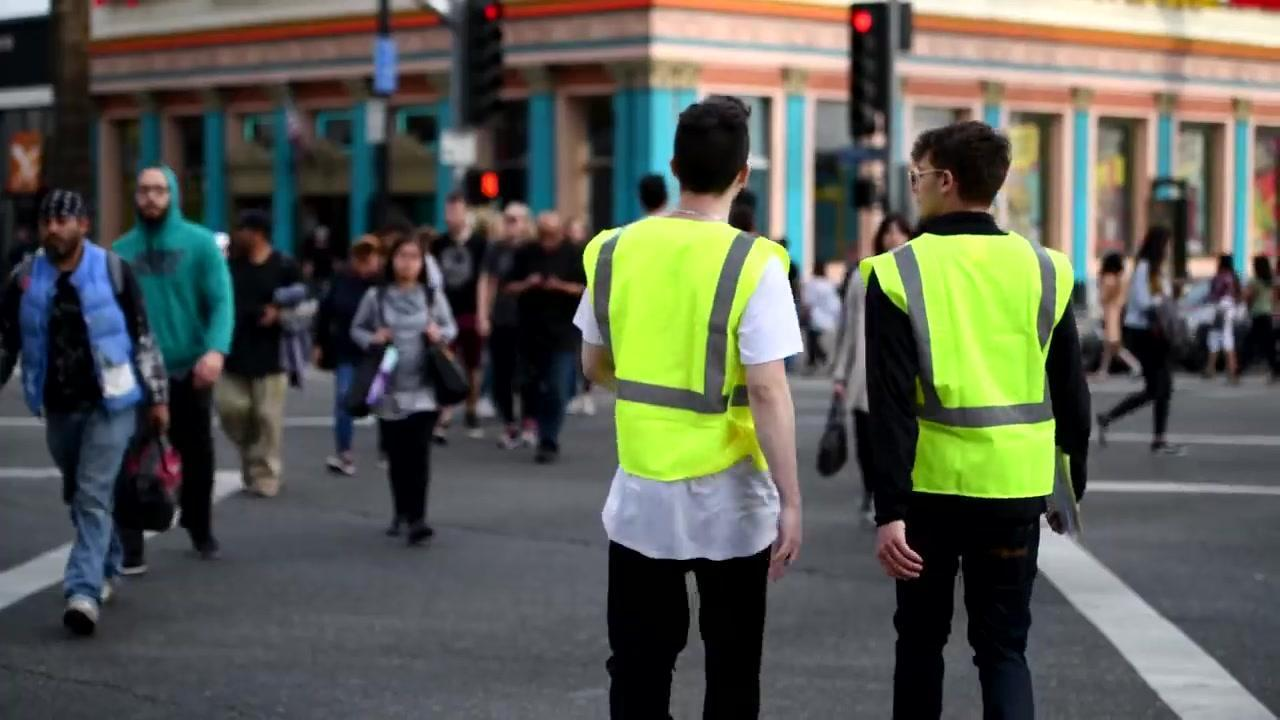vest: (861, 227, 1078, 501), (584, 215, 791, 479)
